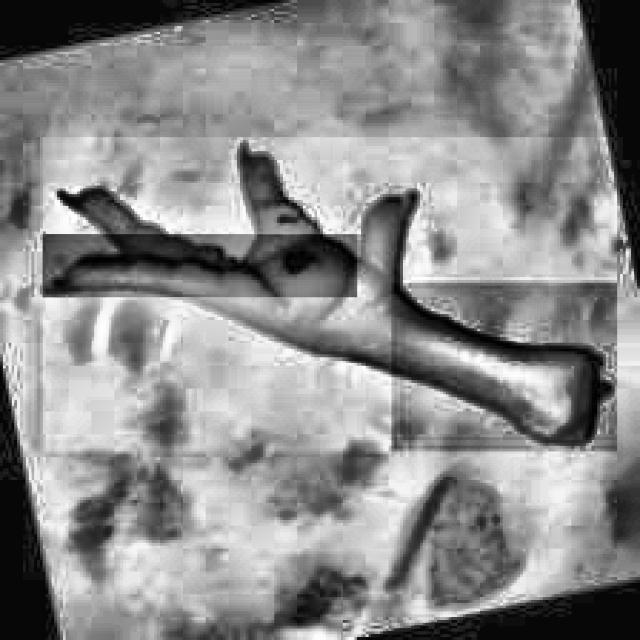Bumble foot: (252, 229, 345, 289)
